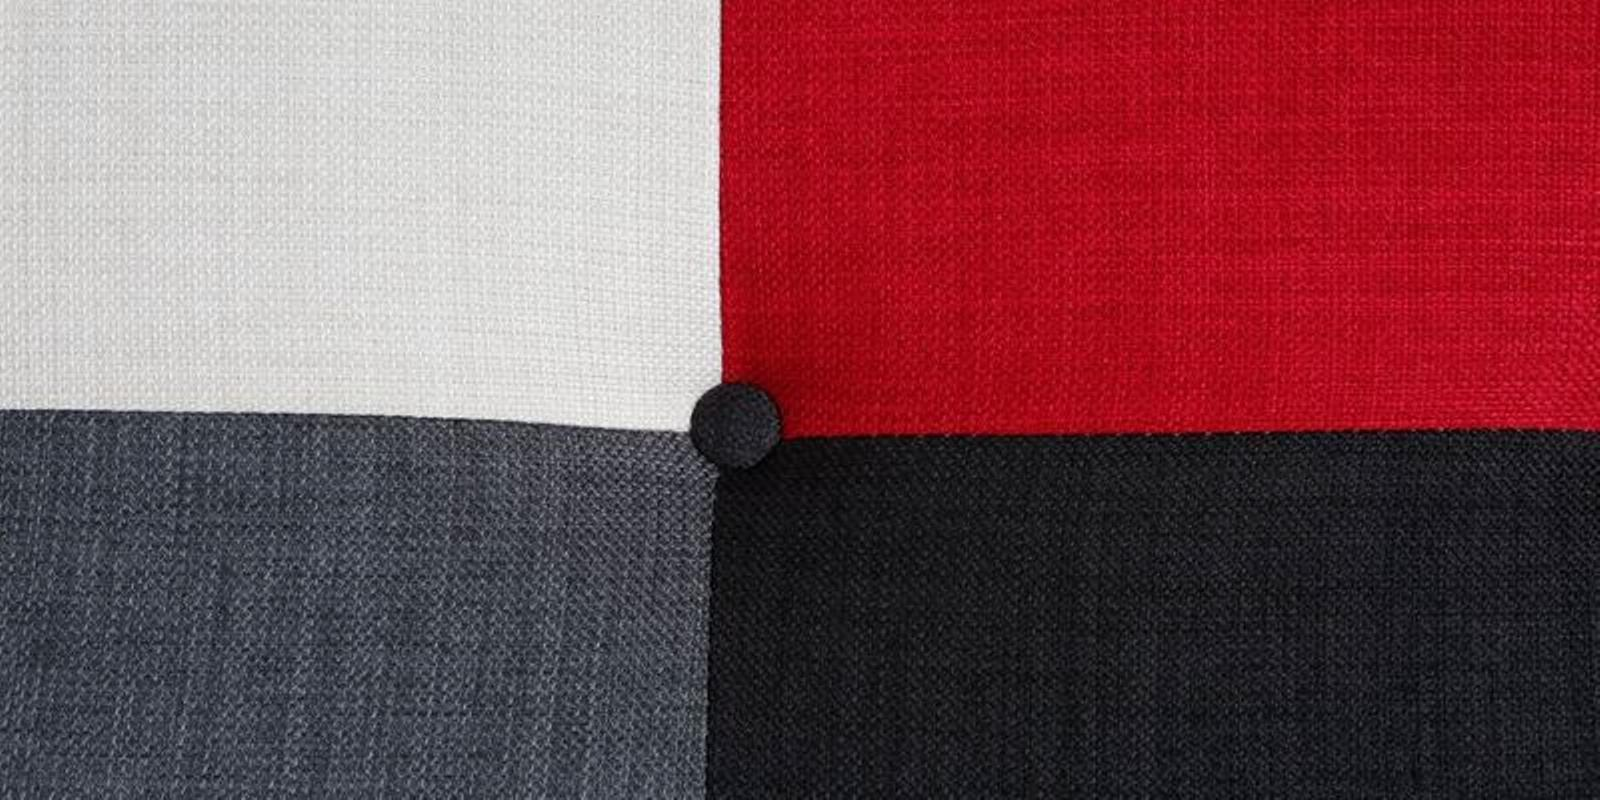Frida Three Seater Sofa in Red Multi Colour by CasaCraft: (2, 6, 1600, 788)
